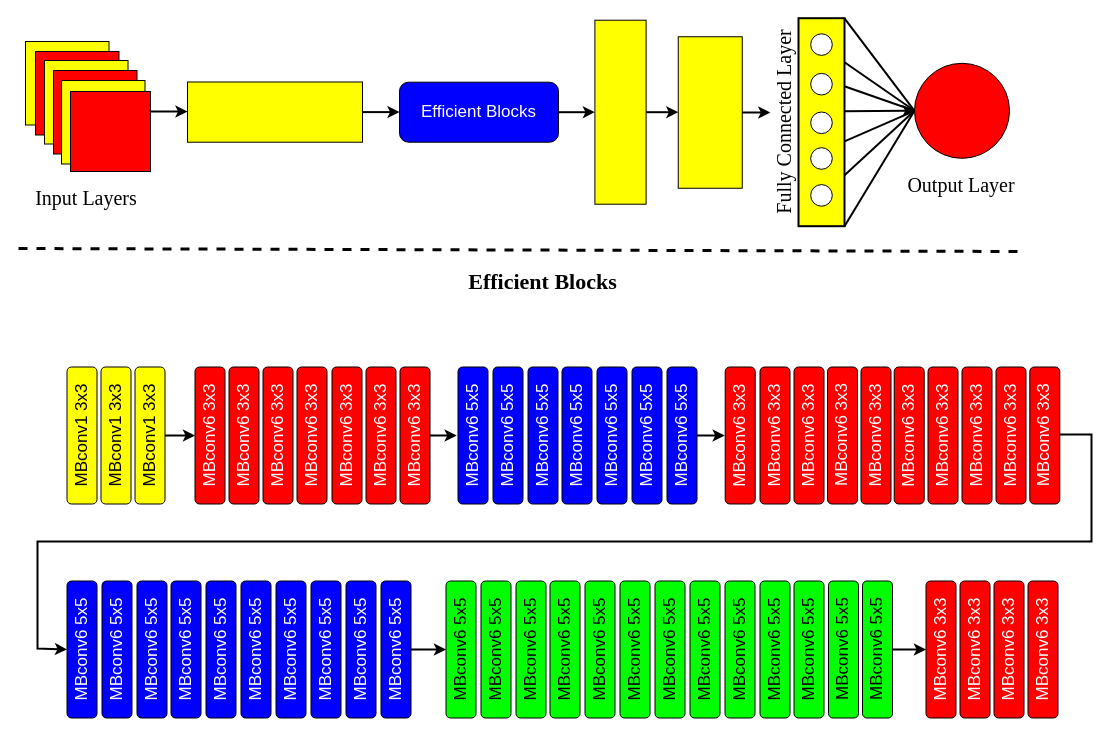
Some shapes in this 1118 by 736 pixel diagram are drawn without their labels. Each missing label, with the box of its shape:
Expand Convolution: (594, 19, 646, 204)
Global Average Pooling Layer: (677, 36, 742, 188)
Softmax: (914, 62, 1010, 158)
Stem Convolutional Layer: (186, 81, 362, 142)
